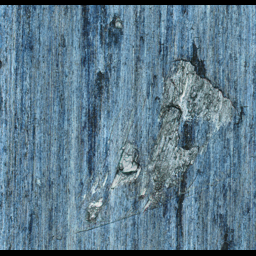d: (79, 42, 246, 224), (106, 13, 124, 41)
